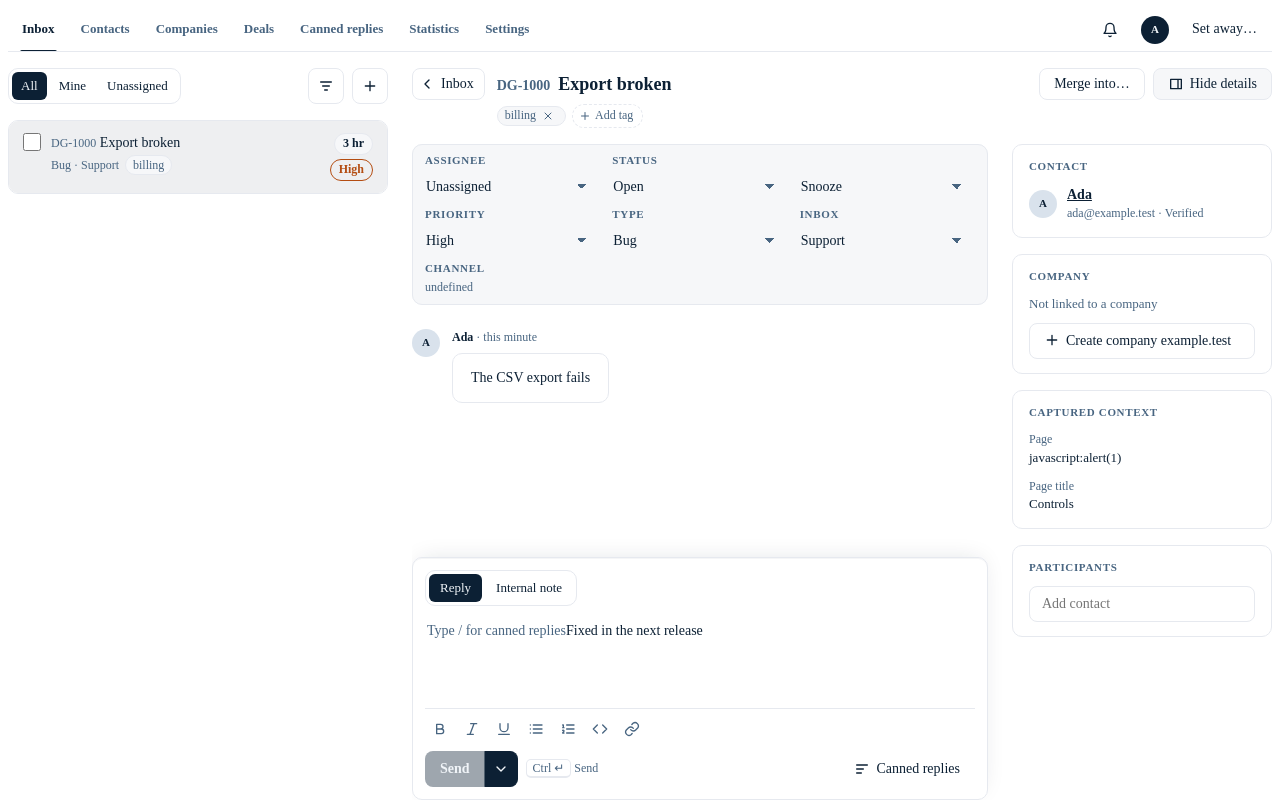
Test: HelpdeskAdmin › clears a sent reply when resolving it fails, so a retry cannot send it twice
Clear the field named "Reply" at [634, 630], box [566,623,703,638]
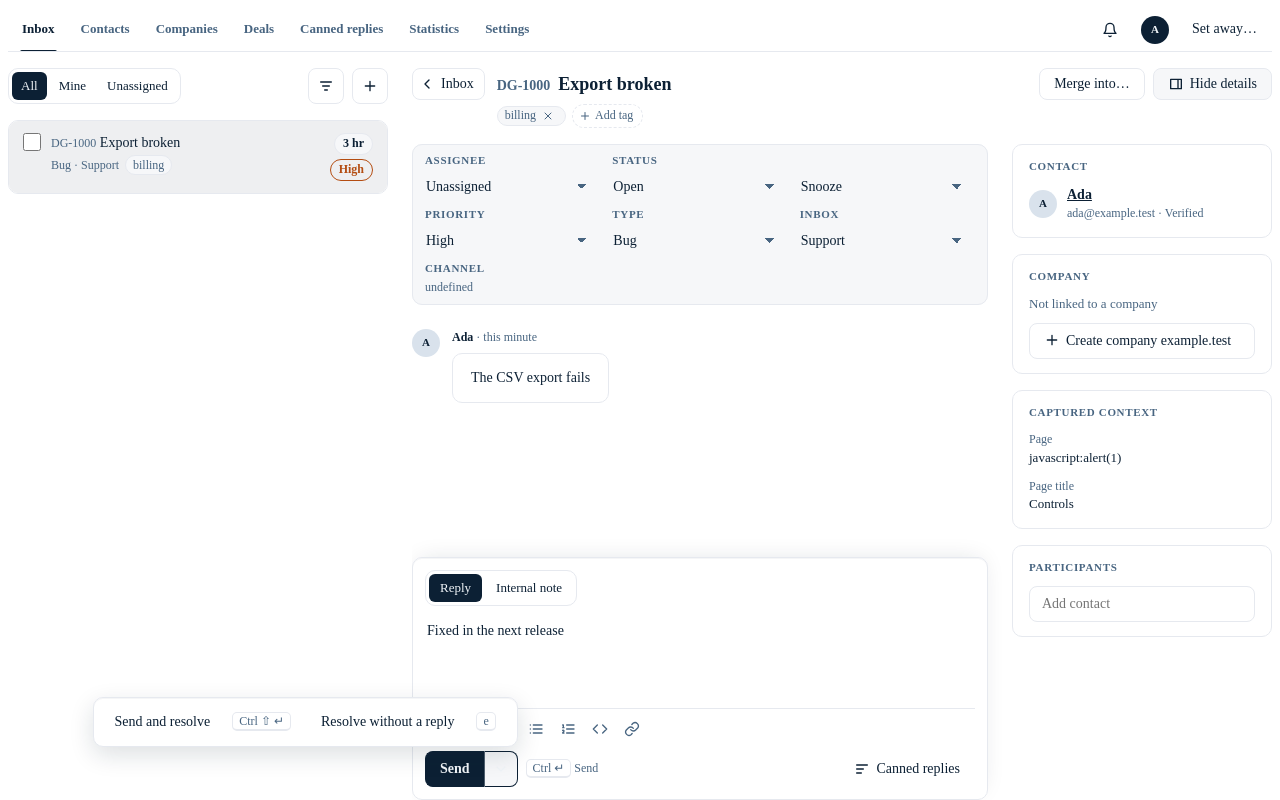
Click the button "Send and resolve Ctrl ⇧ ↵" at [203, 722], box [100,704,306,740]
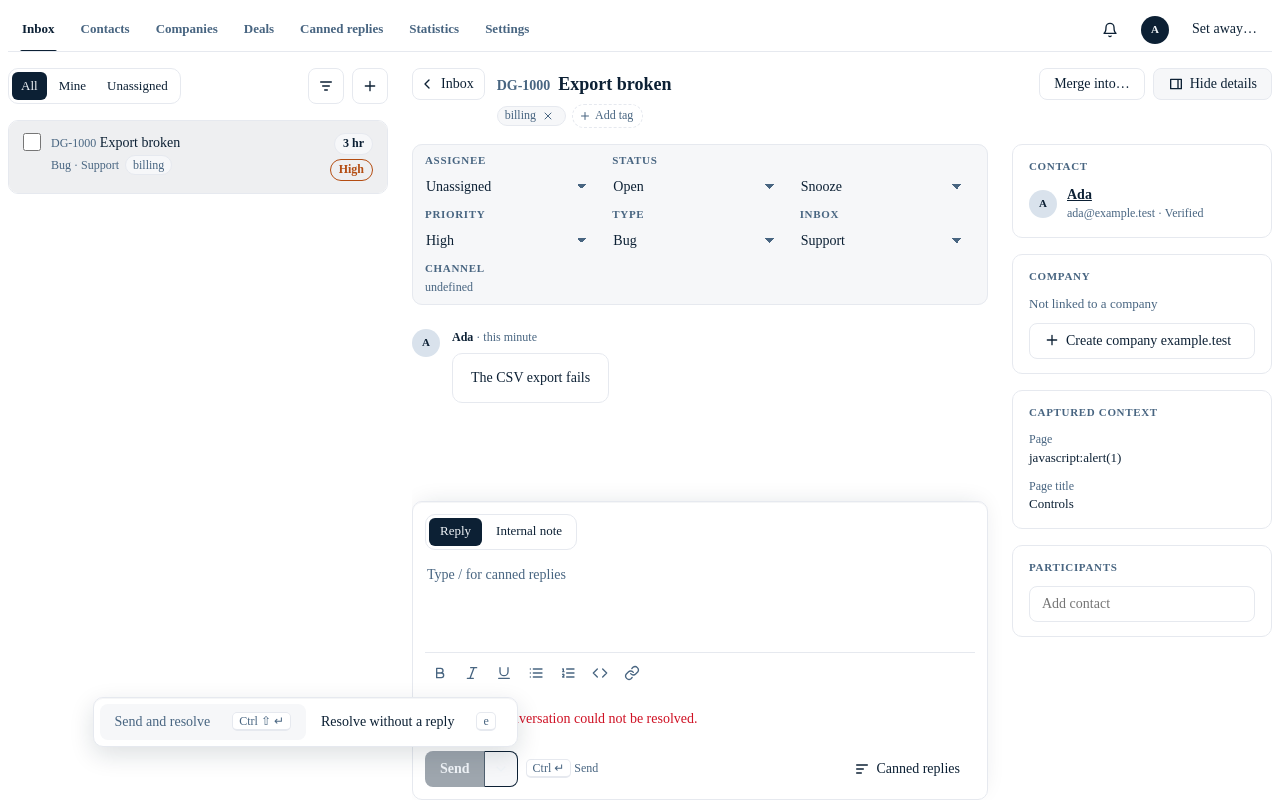
expect the text "Sent, but the conversation could not be resolved." is shown: met, box [425,711,698,726]
